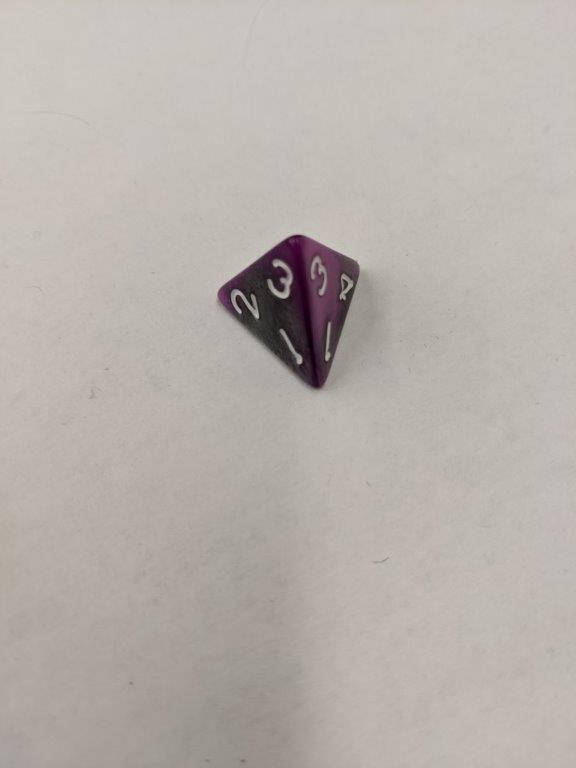d4-3: (209, 230, 362, 391)
